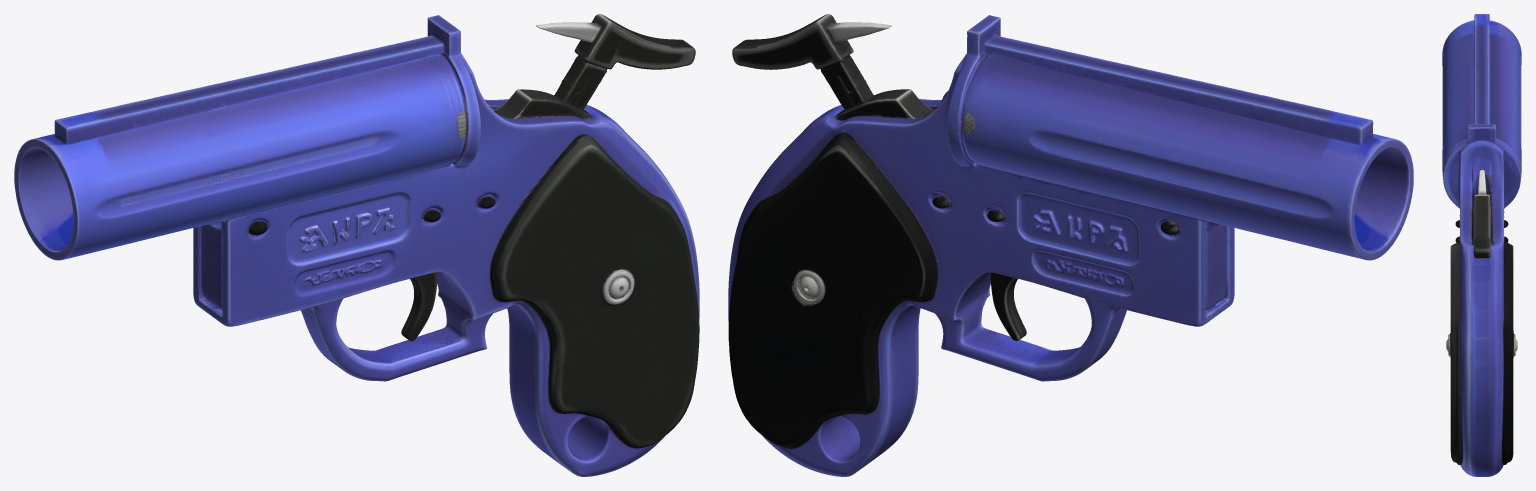
The model's file is gun_02.glb.
3 renders of one model, left to right at view 1: azimuth 30°, elevation 25°; view 2: azimuth 150°, elevation 25°; view 3: azimuth 270°, elevation 25°, orthographic. The views are drawn at different scales.
Size of the model in its own units: 1.9 by 1.34 by 0.3245.
1 material, 1 textured.
